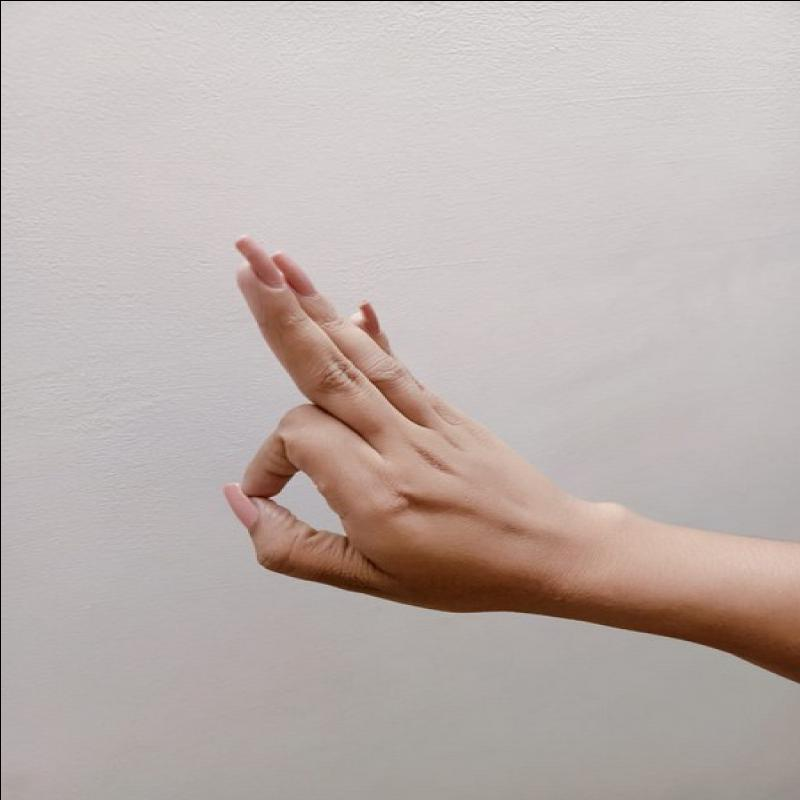Mudraakhyam: (177, 225, 552, 620)
